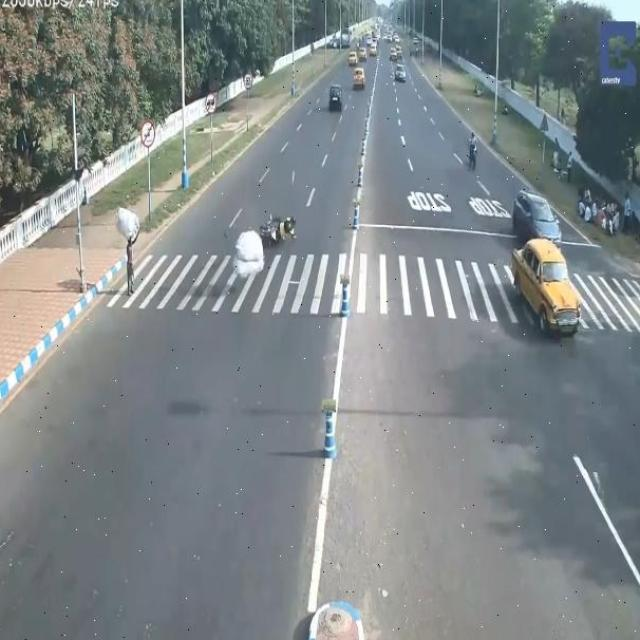accident: (259, 210, 301, 244)
